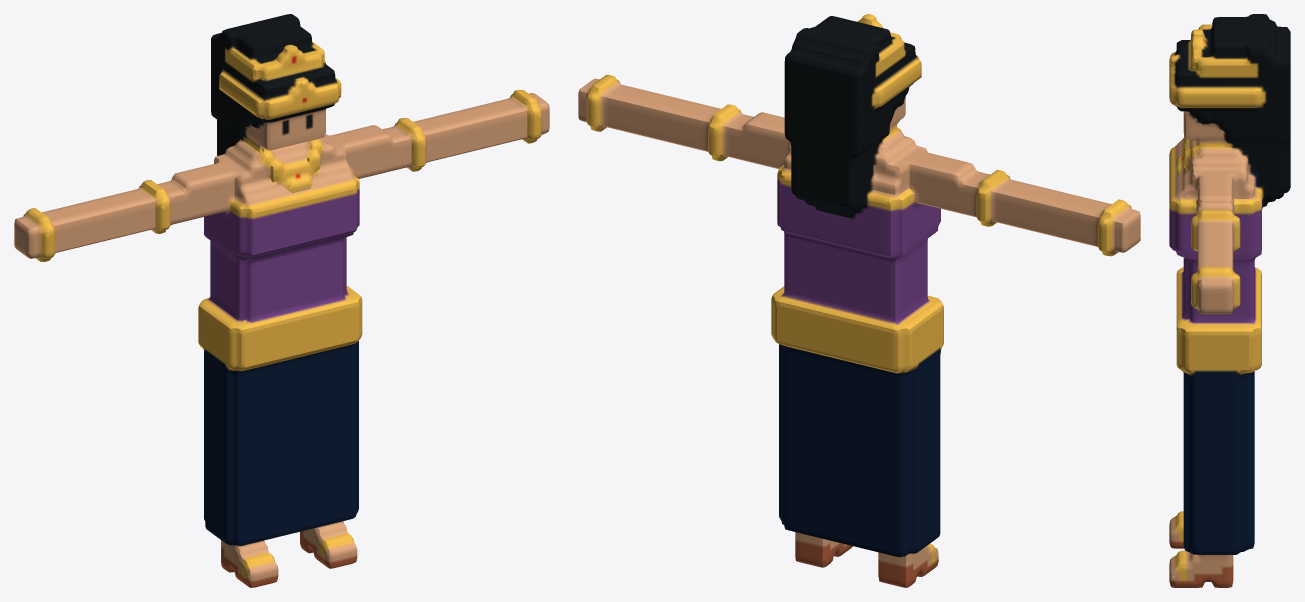
The model's file is putriSunda.fbx.
3 views of the same model, side by side, from view 1: azimuth 30°, elevation 25°; view 2: azimuth 150°, elevation 25°; view 3: azimuth 270°, elevation 25° (orthographic). The views are drawn at different scales.
Parts seen in each view (by area): view 1: Object; view 2: Object; view 3: Object.
Boxes of the visible parts, x1,y1,x2,y2 form: Object: [14, 14, 549, 587]; Object: [578, 14, 1140, 587]; Object: [1169, 14, 1290, 587].
Size of the model in its own units: 94.75 by 90.34 by 18.65.
1 material, 1 textured.
